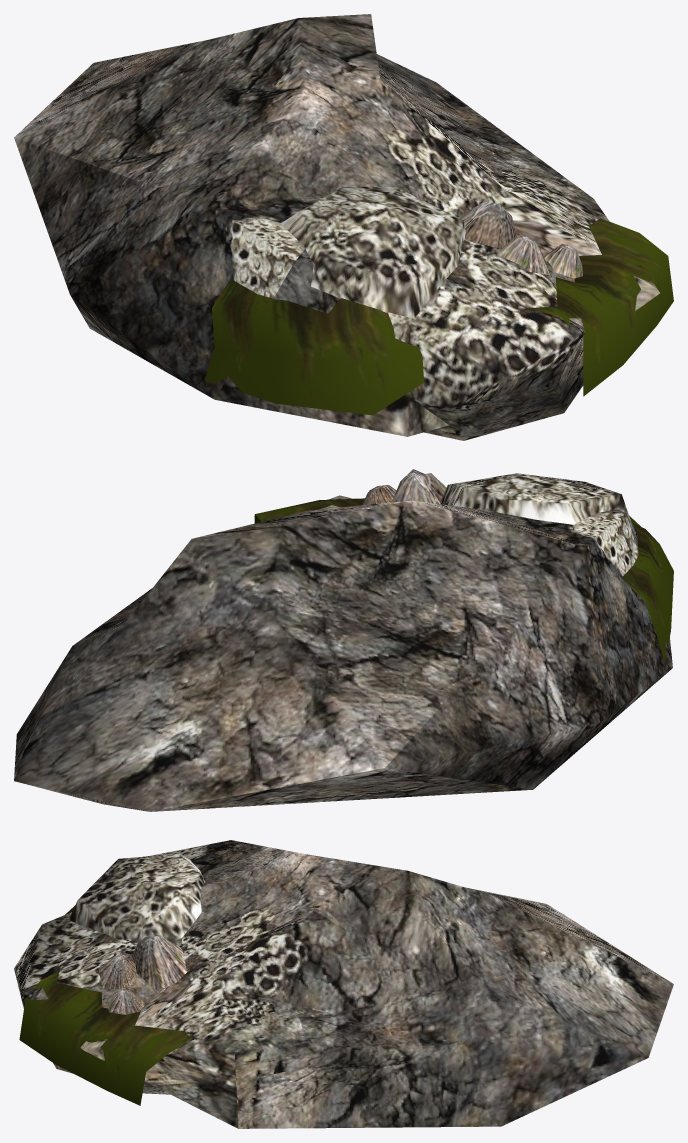
File: pir_m_prp_dvj_rock_f.fbx
3 renders of one model, top to bottom at view 1: azimuth 30°, elevation 25°; view 2: azimuth 150°, elevation 25°; view 3: azimuth 270°, elevation 25°, orthographic. The views are drawn at different scales.
Visible parts, largest first — view 1: rock, pasted__rock_7, pasted__seaweed4, pasted__barnacle2, pasted__seaweed3, limpet1, limpet, limpet2; view 2: rock, pasted__barnacle2, pasted__seaweed4, limpet1, pasted__seaweed3; view 3: rock, pasted__seaweed3, pasted__barnacle2, pasted__rock_7, limpet1, limpet, limpet2.
Part boxes in pixels (bbox=[...]): rock: bbox=[14, 14, 659, 436]; pasted__rock_7: bbox=[388, 240, 584, 440]; pasted__seaweed4: bbox=[204, 279, 424, 415]; pasted__barnacle2: bbox=[280, 187, 465, 318]; pasted__seaweed3: bbox=[530, 218, 673, 396]; limpet1: bbox=[458, 201, 516, 247]; limpet: bbox=[498, 235, 549, 274]; limpet2: bbox=[543, 244, 582, 278]; rock: bbox=[14, 495, 672, 811]; pasted__barnacle2: bbox=[440, 473, 630, 524]; pasted__seaweed4: bbox=[621, 515, 673, 661]; limpet1: bbox=[391, 469, 444, 504]; pasted__seaweed3: bbox=[254, 498, 364, 523]; rock: bbox=[80, 840, 673, 1128]; pasted__seaweed3: bbox=[19, 971, 191, 1105]; pasted__barnacle2: bbox=[69, 853, 205, 942]; pasted__rock_7: bbox=[14, 912, 181, 1094]; limpet1: bbox=[131, 936, 186, 989]; limpet: bbox=[98, 953, 136, 989]; limpet2: bbox=[108, 988, 145, 1014].
Bounding box in the file's own units: 545 × 275 × 813.
Materials: 3 (3 with a texture image).
